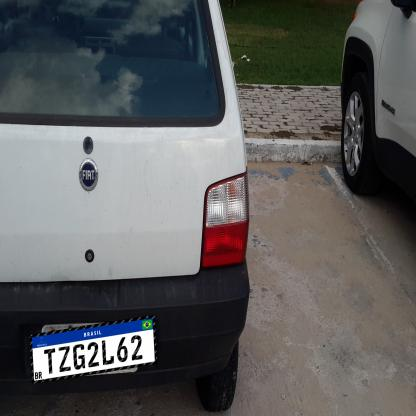PlacaM: (30, 315, 157, 384)
